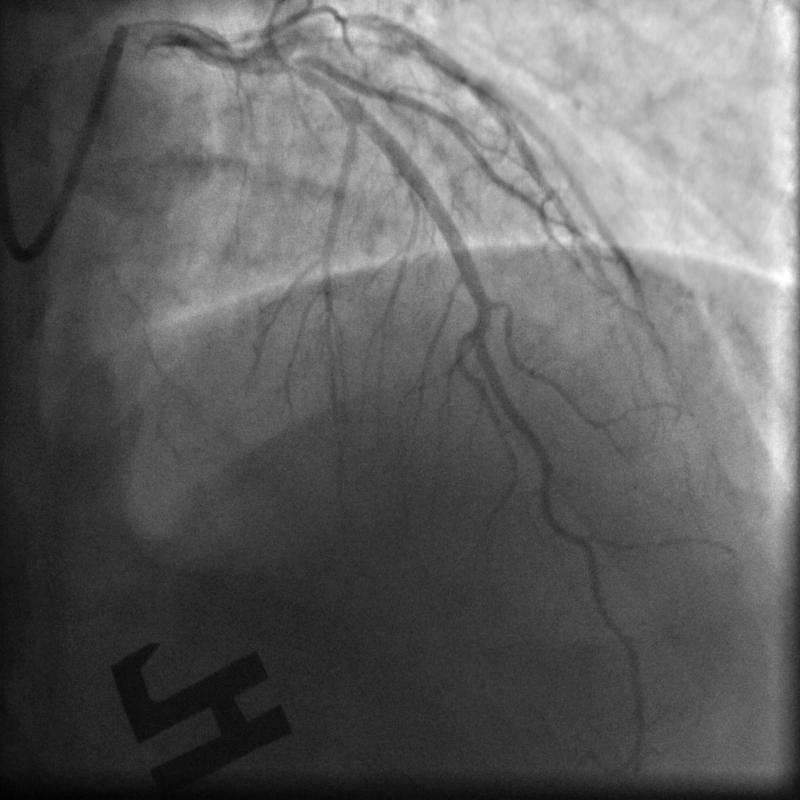Stenosis: (238, 46, 307, 82)
